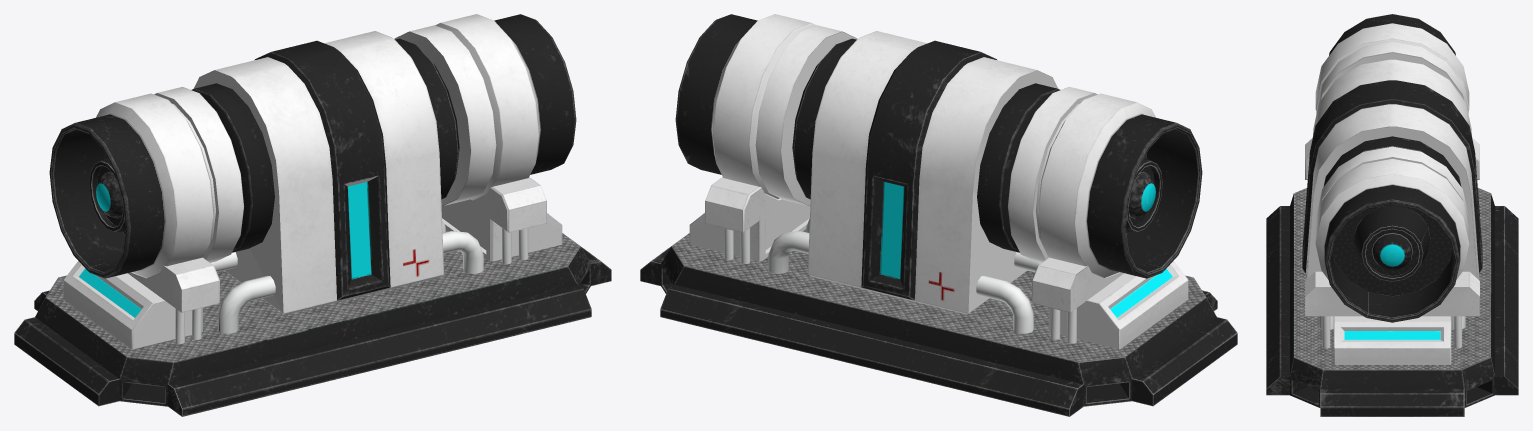
Rendered from ScifiGenerator.fbx.
3 views of the same model, side by side, from view 1: azimuth 30°, elevation 25°; view 2: azimuth 150°, elevation 25°; view 3: azimuth 270°, elevation 25° (orthographic). The views are drawn at different scales.
Visible parts, largest first — view 1: Generator; view 2: Generator; view 3: Generator.
Boxes of the visible parts, x1=… form: Generator: x1=14, y1=14, x2=611, y2=416; Generator: x1=640, y1=14, x2=1237, y2=416; Generator: x1=1266, y1=14, x2=1518, y2=416.
Bounding box in the file's own units: 677 × 326 × 339.
Materials: 1 (1 with a texture image).
